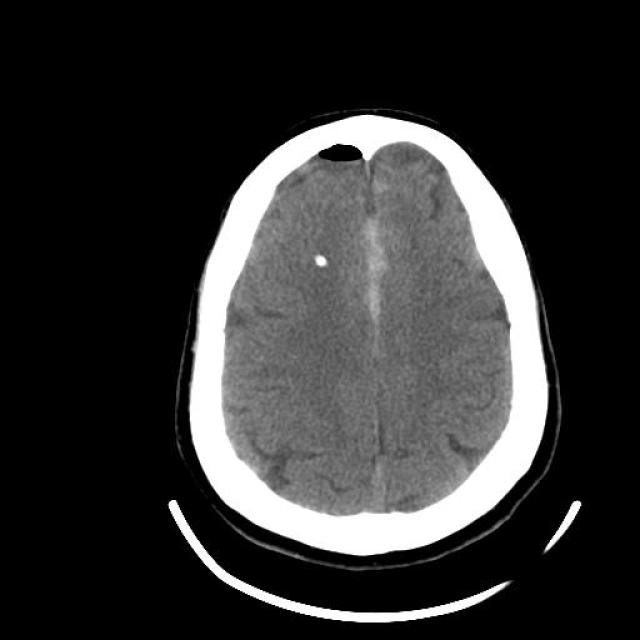Subdural: (364, 212, 386, 328)
